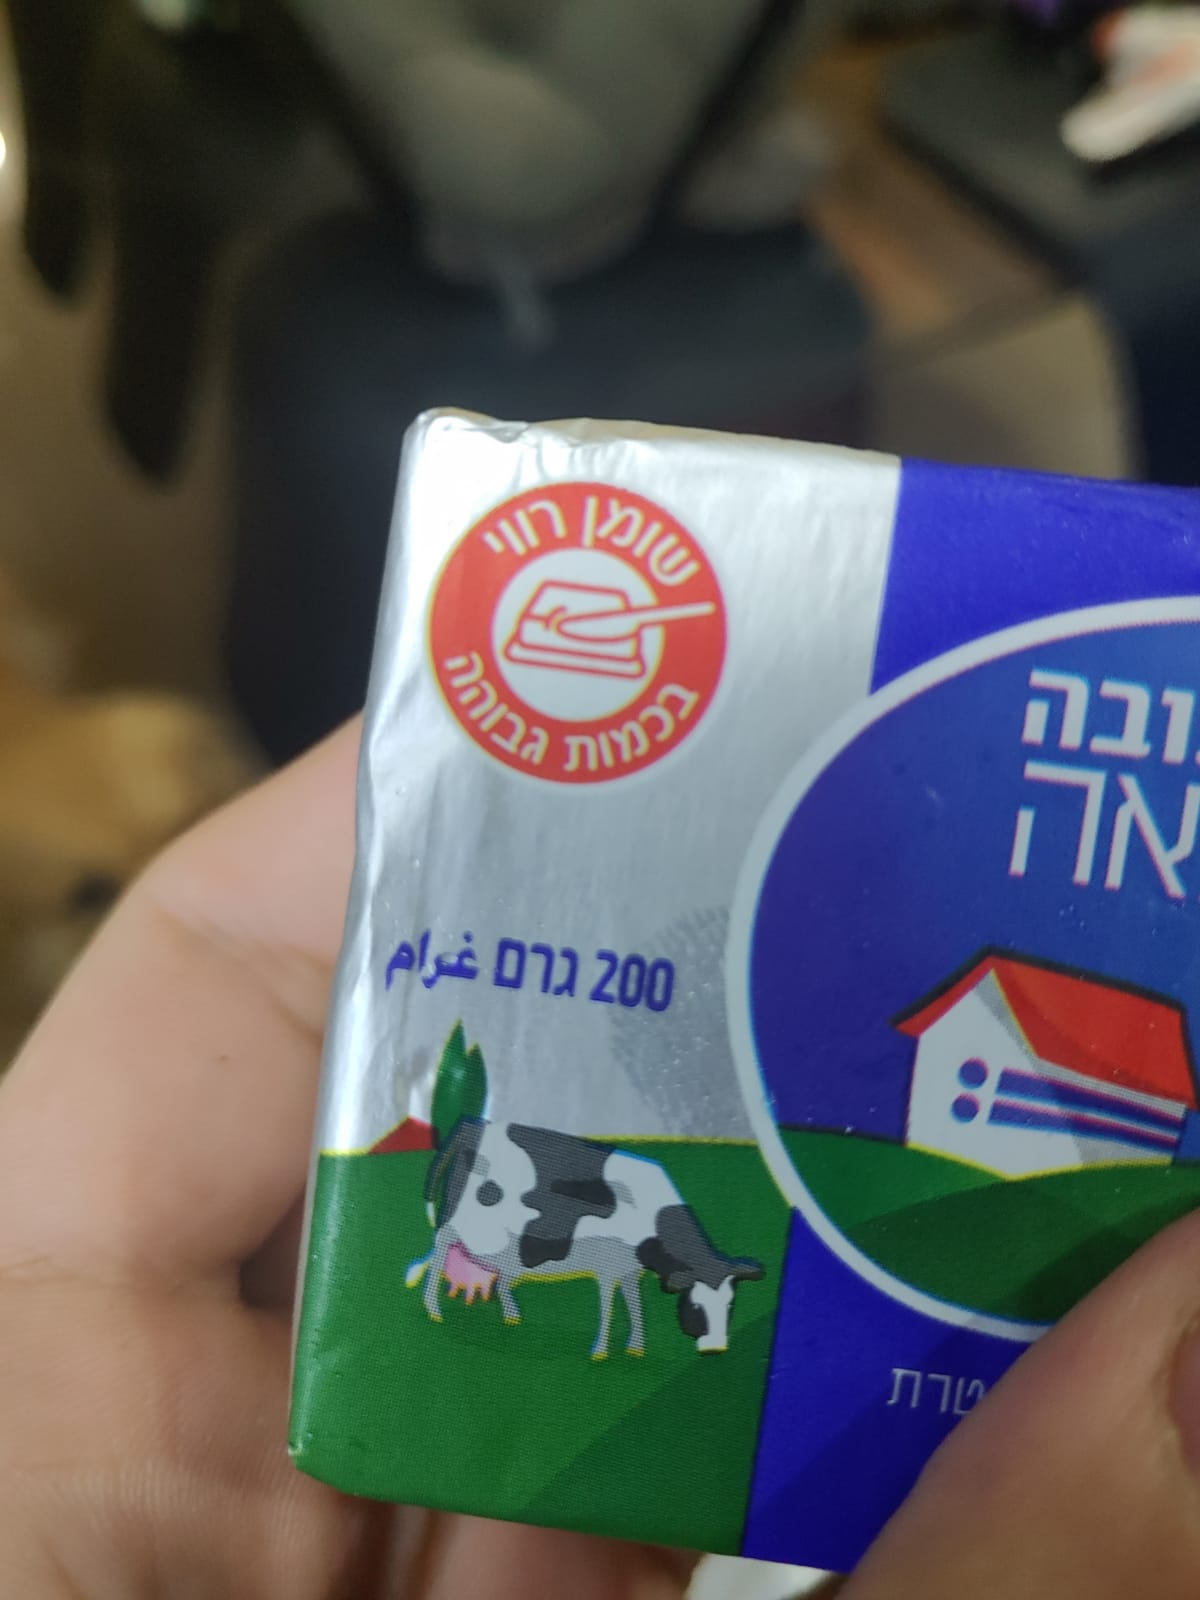fat: (421, 485, 736, 791)
